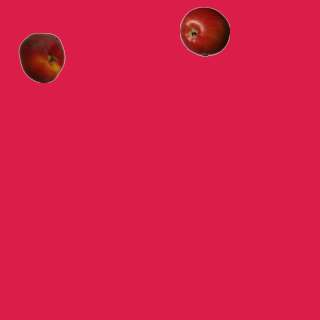Apple Braeburn: (179, 6, 229, 56)
Nectarine Flat: (16, 32, 66, 82)
